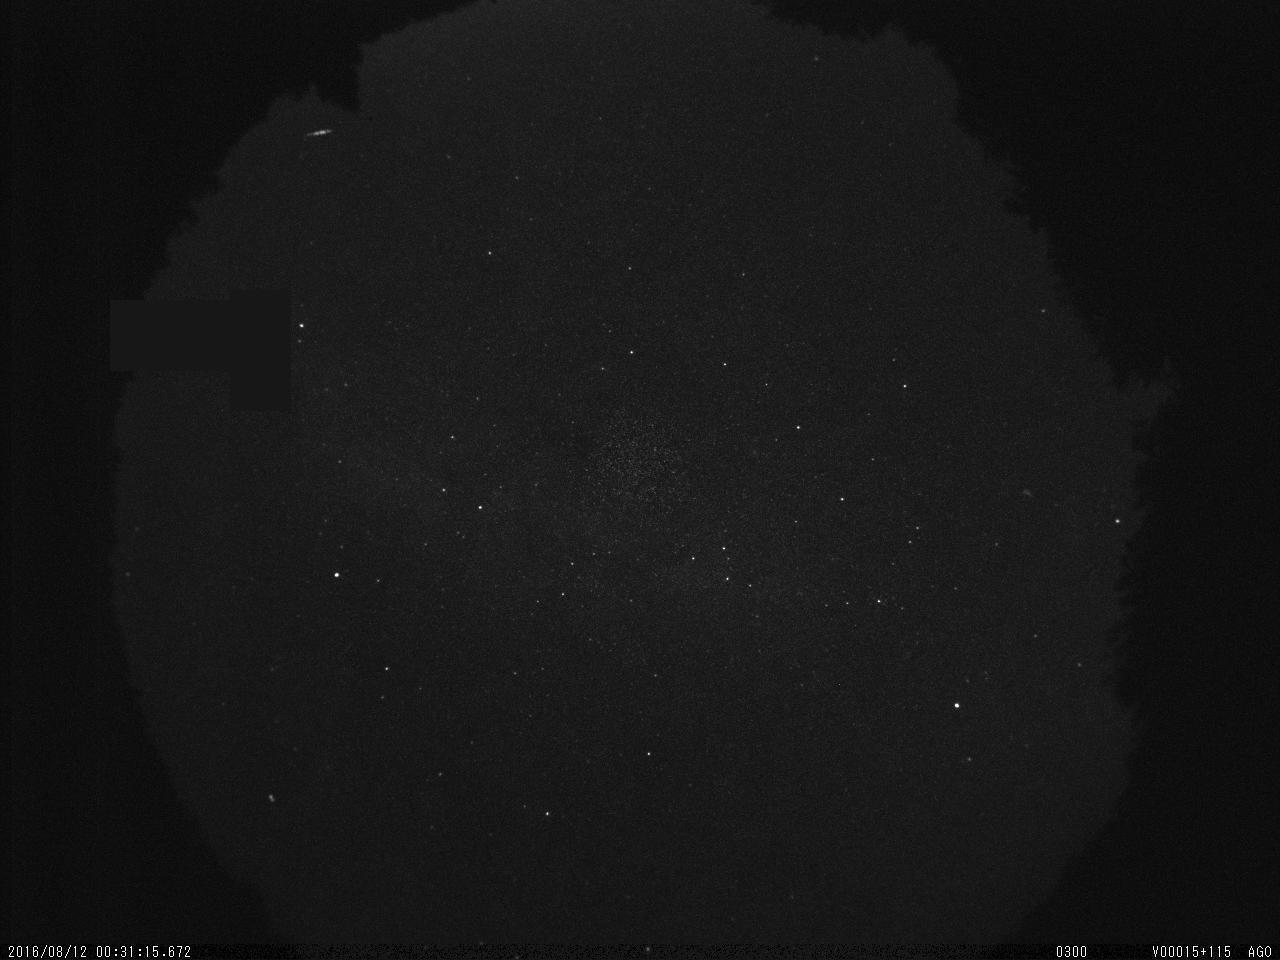Meteor: (304, 125, 335, 139)
